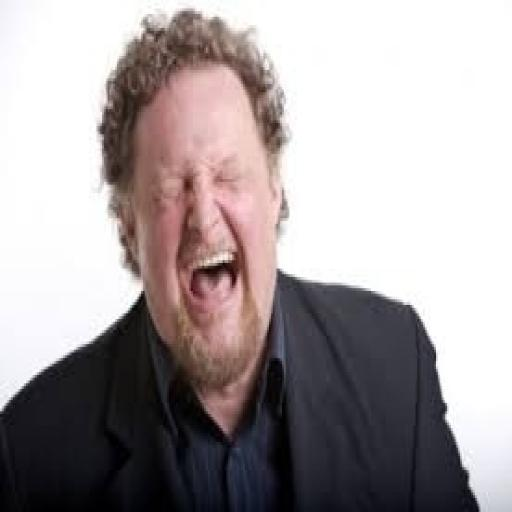laughing: (0, 2, 482, 509)
